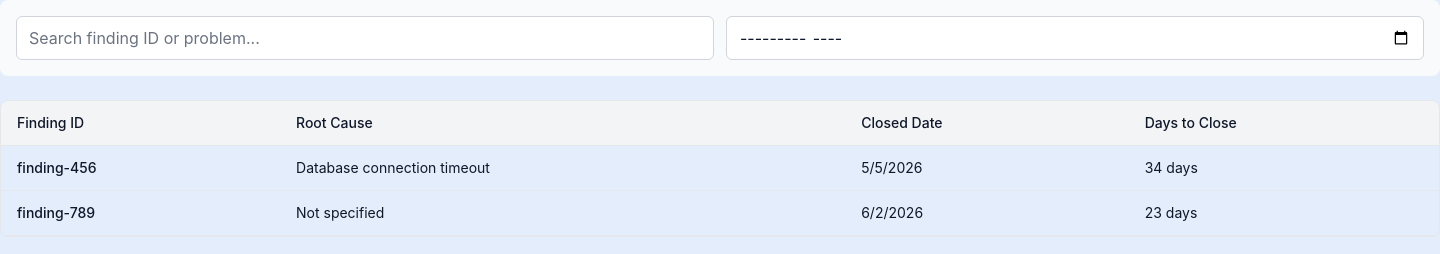
Test: CapaHistoryList › filters by month (date picker)
Type "2026-05" into the 2nd field.
click(1075, 38); type("2026-05")  # box [726,16,1424,60]
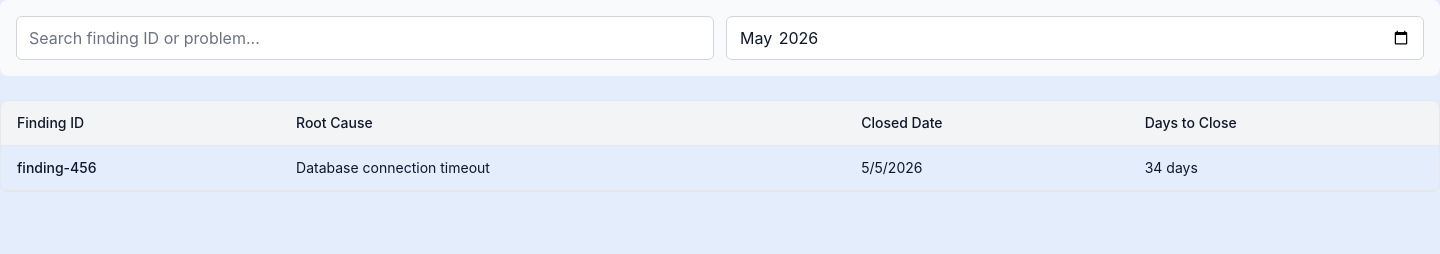
Expected: the text "finding-456" is shown, [1,146,280,190]
Now the text "finding-789" is gone
